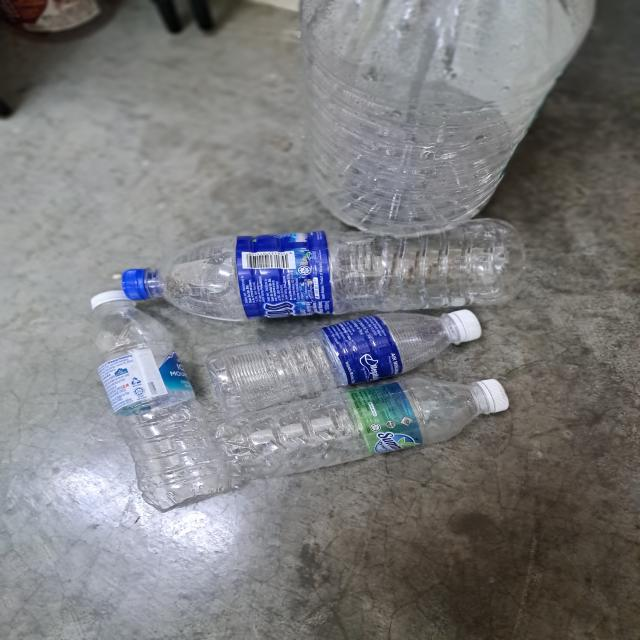plastic bottle: (293, 0, 597, 243), (159, 228, 524, 311), (88, 309, 235, 509), (236, 386, 494, 474), (215, 315, 445, 407)
plastic bottle cap: (447, 308, 488, 346), (122, 263, 160, 302), (88, 282, 130, 308), (481, 384, 513, 416)
